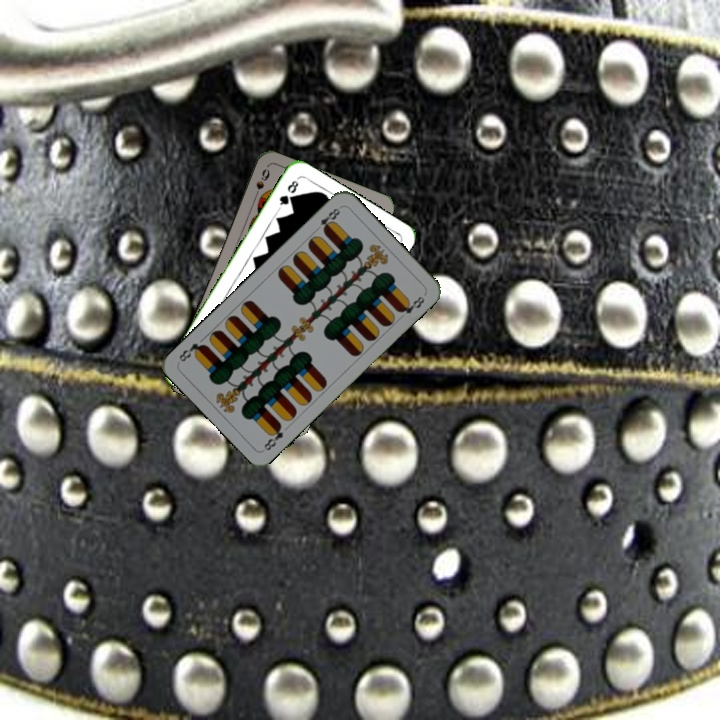E8: (316, 203, 344, 235), (260, 419, 286, 453)
G8: (275, 176, 301, 211)
S9: (250, 164, 272, 203)
